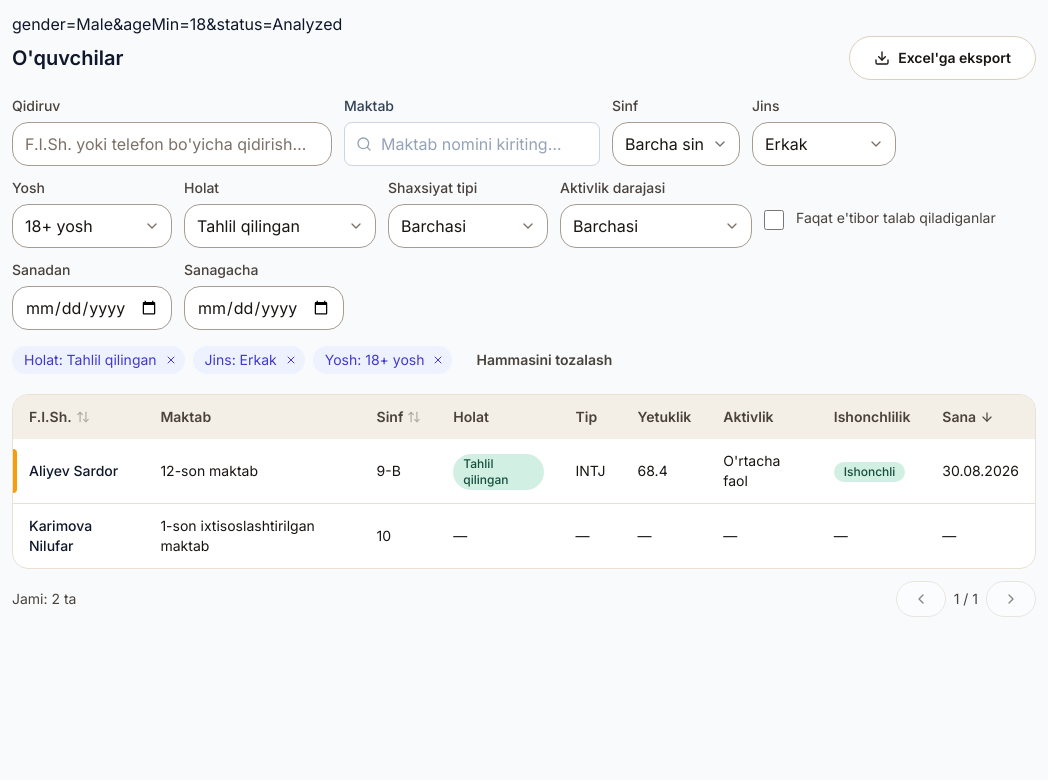
Test: StudentsPage › yosh chipi olib tashlanganda ikkala parametr birga o'chadi; 'Hammasini tozalash' jins va yoshni ham tozalaydi
Expected: the text "Aliyev Sardor" is shown, [29,461,118,481]
Expected: the text "Yosh: 18+ yosh" is shown, [313,346,452,374]
Click the button named "Yosh: 18+ yosh filtrini olib tashlash": (438, 360) [428,350,448,370]
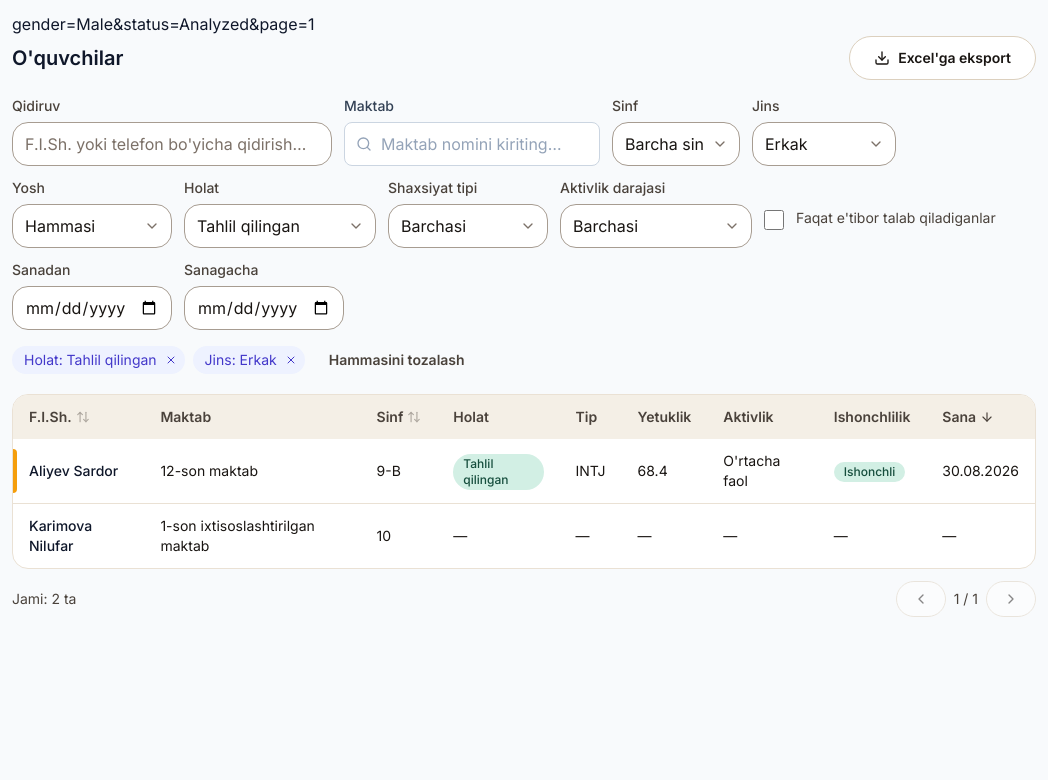
Expected: the text with test id "url-probe" shows "gender=Male", [12,14,315,34]
Result: the text with test id "url-probe" no longer shows "ageMin="
Click the button "Hammasini tozalash": (397, 360) [313,342,481,378]
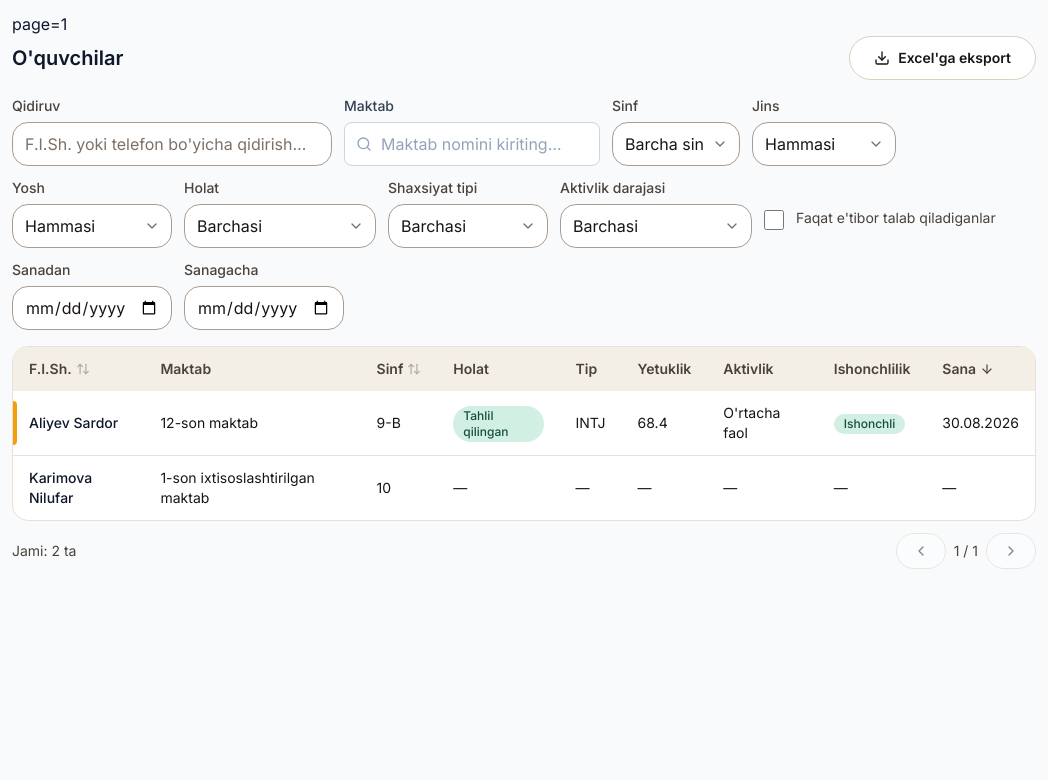
Result: the text with test id "url-probe" no longer shows "gender="
Result: the text with test id "url-probe" no longer shows "status="
Result: the dropdown labelled "Jins" shows "Hammasi" at [752,122,896,166]
